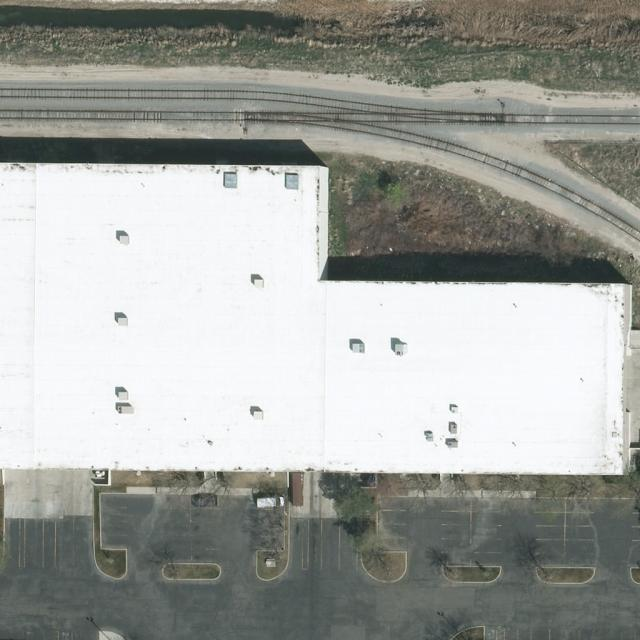vehicle: (256, 496, 284, 510)
